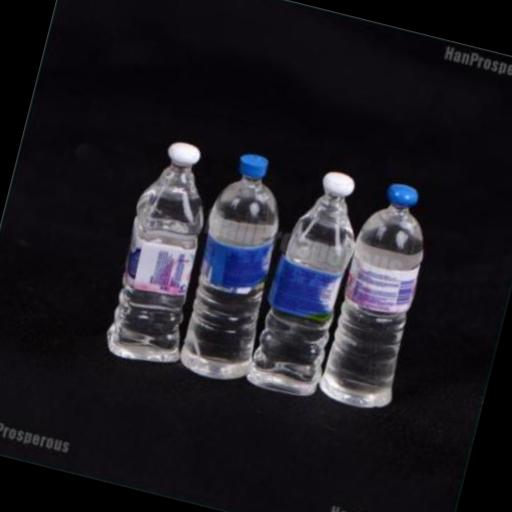Coca: (100, 136, 230, 370), (174, 148, 300, 385), (318, 176, 444, 412), (246, 163, 370, 402)
